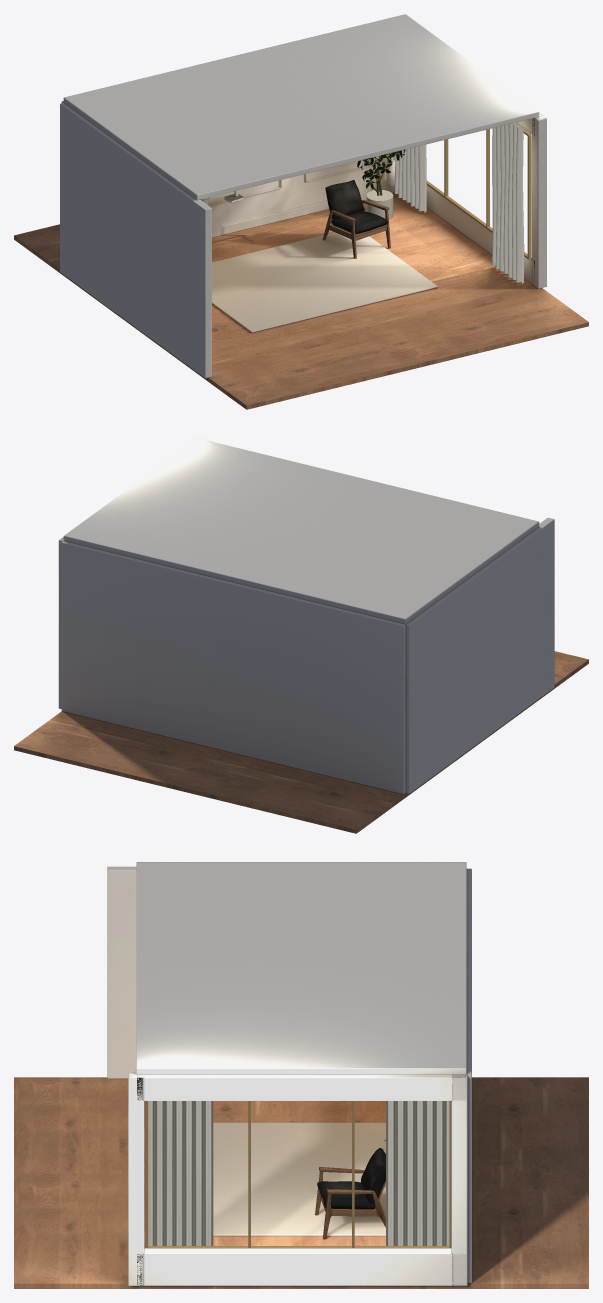
Rendered from entry-baked-interior.glb.
The picture shows the model from 3 angles, top to bottom: view 1: azimuth 30°, elevation 25°; view 2: azimuth 150°, elevation 25°; view 3: azimuth 270°, elevation 25°; orthographic projection. The views are drawn at different scales.
Visible parts, largest first — view 1: Studio baked architecture, Pleated curtain, modern_arm_chair_01, Pleated curtain.001, pachira_aquatica_01_leaves_d, Window mullion, Tree planter; view 2: Studio baked architecture; view 3: Studio baked architecture, Pleated curtain, Pleated curtain.001, modern_arm_chair_01, Window horizontal rail, Window mullion.
Part boxes in pixels (x1,y1,x2,y2): Studio baked architecture: (14,14,588,409); Pleated curtain: (492,123,524,283); modern_arm_chair_01: (322,180,390,258); Pleated curtain.001: (394,144,426,212); pachira_aquatica_01_leaves_d: (357,149,405,189); Window mullion: (527,134,531,259); Tree planter: (366,190,393,219); Studio baked architecture: (14,438,588,833); Studio baked architecture: (14,862,588,1288); Pleated curtain: (145,1101,213,1247); Pleated curtain.001: (386,1101,449,1245); modern_arm_chair_01: (315,1148,385,1239); Window horizontal rail: (148,1246,451,1248); Window mullion: (145,1101,148,1248).
Bounding box in the file's own units: 6.96 × 3.38 × 8.
Materials: 10 (6 with a texture image).
